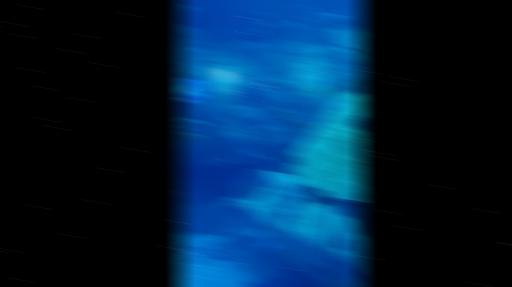Fish: (306, 186, 363, 236), (307, 5, 352, 26), (332, 77, 363, 99), (177, 84, 206, 97), (177, 119, 204, 129), (220, 197, 245, 207), (309, 84, 326, 97), (181, 132, 202, 142), (285, 20, 304, 30), (272, 109, 291, 119), (285, 154, 301, 165), (280, 247, 297, 257), (334, 237, 347, 249), (332, 278, 350, 286), (351, 117, 362, 130), (210, 123, 227, 131), (294, 120, 309, 129), (189, 48, 206, 53), (260, 138, 273, 144), (258, 23, 275, 27), (252, 28, 263, 34), (182, 6, 195, 11), (195, 39, 206, 44), (261, 154, 269, 160), (177, 191, 186, 196), (278, 80, 289, 84), (260, 12, 268, 16), (266, 120, 274, 122)
